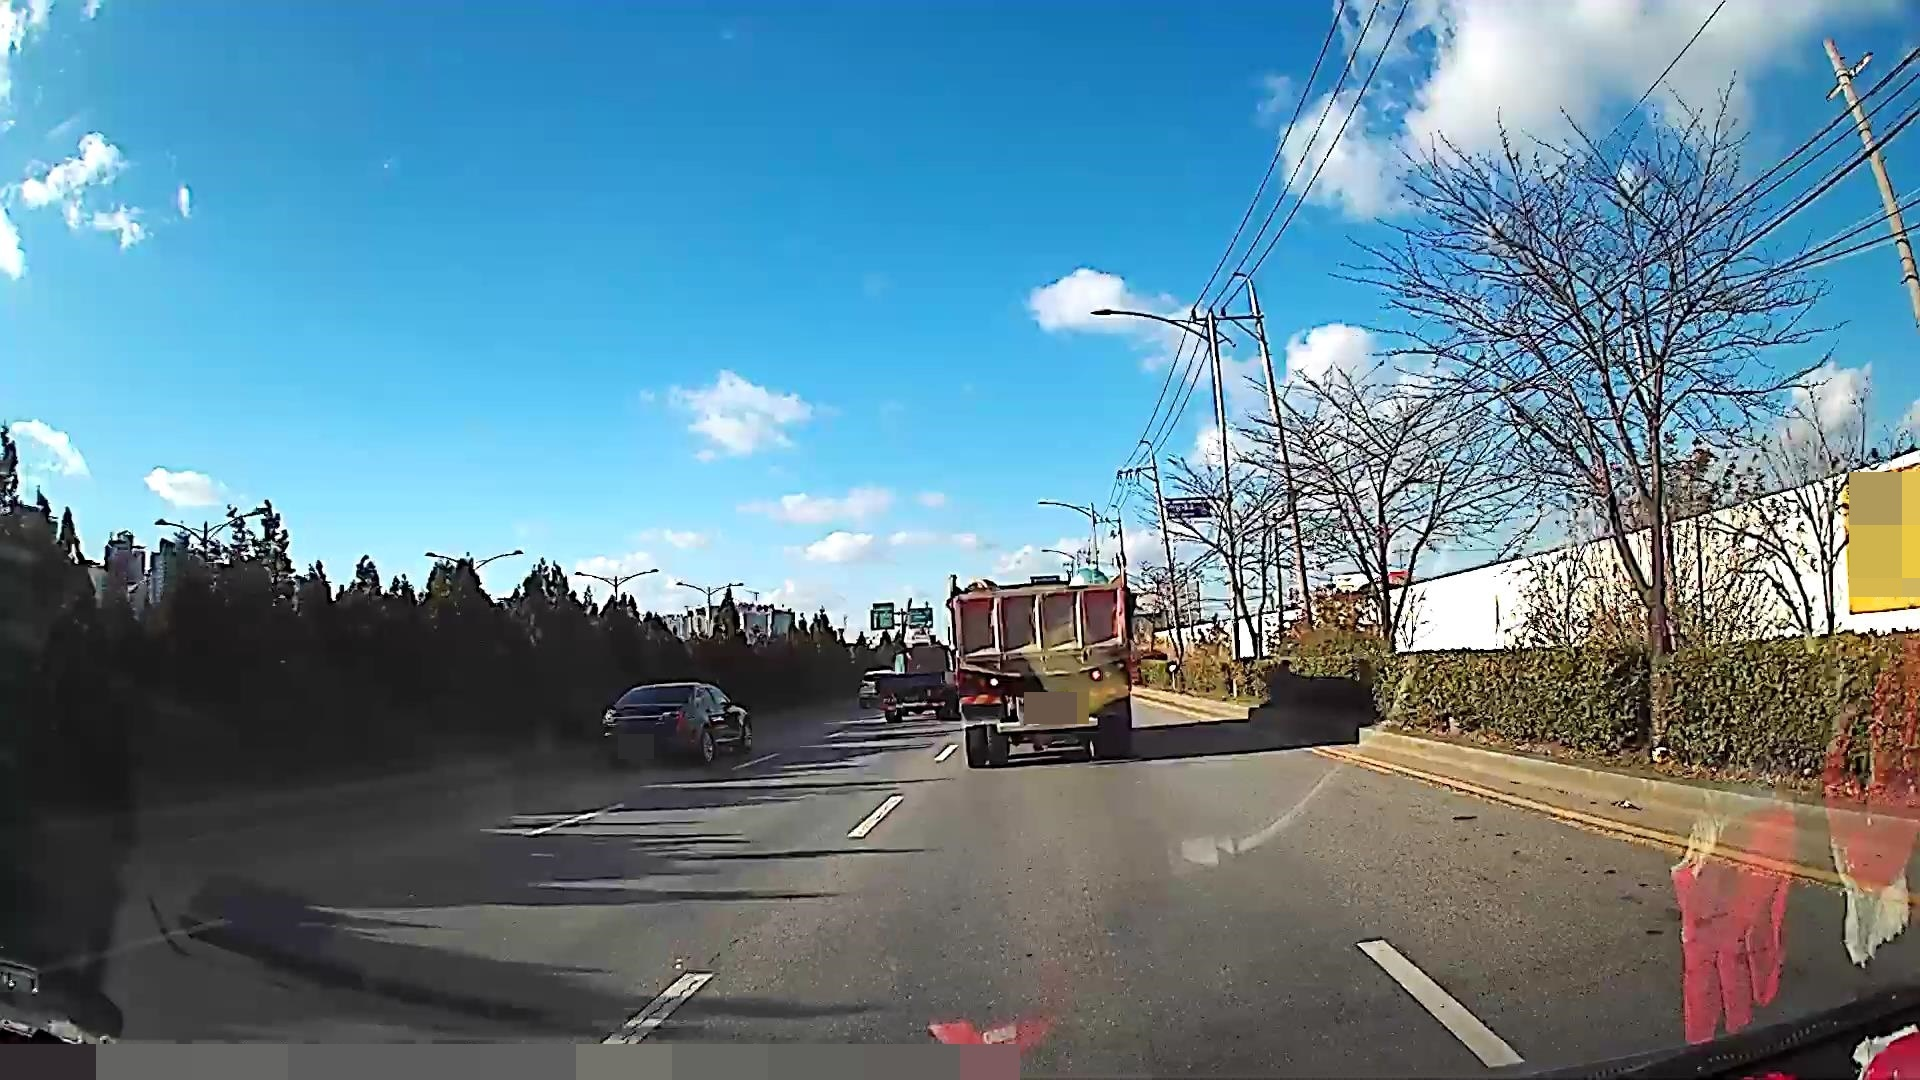불법차량: (948, 564, 1141, 769)
